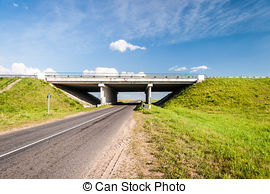bridge: (44, 72, 205, 87)
